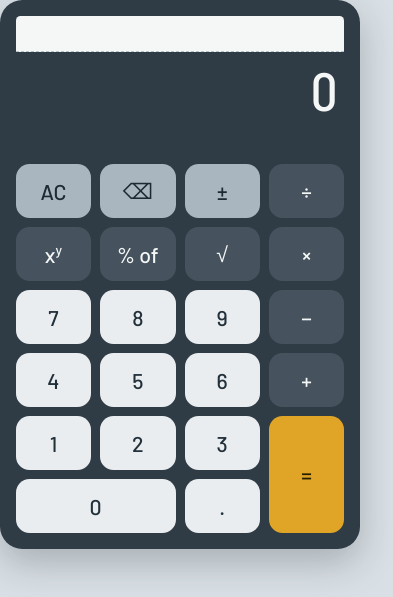
Test: Calculator › with the mouse › calculates 12 + 3 = 15 and prints it on the tape
Click the button "1" at (54, 443), box [16, 416, 91, 470]
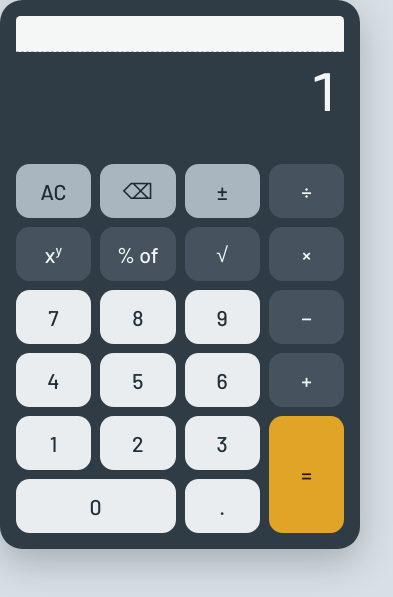
Click the button "2" at (138, 443), box [100, 416, 176, 470]
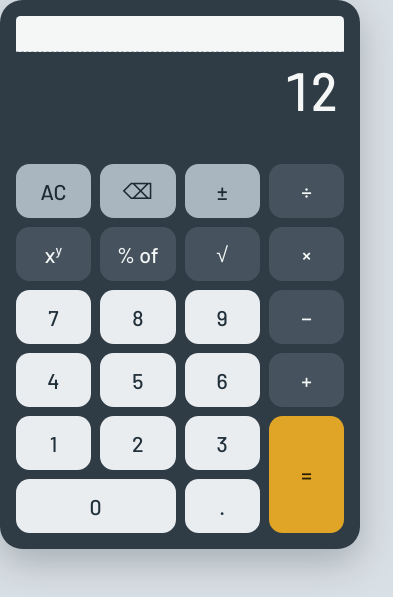
Click the button named "Add" at (307, 380), box [269, 353, 344, 407]
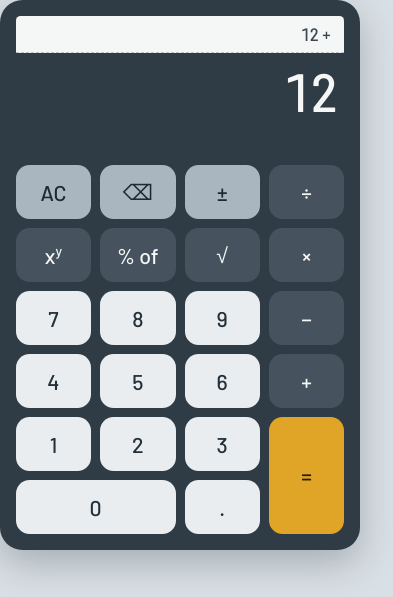
Result: the text with test id "tape" reads "12 +" at [301, 22, 331, 44]
Click the button "3" at (222, 444), box [184, 417, 260, 471]
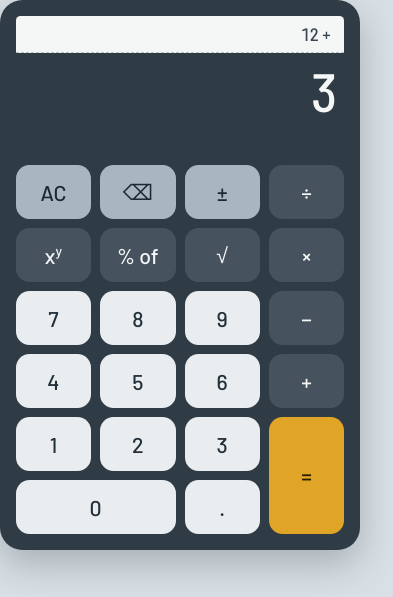
Click the button named "Equals" at (307, 476), box [269, 417, 344, 534]
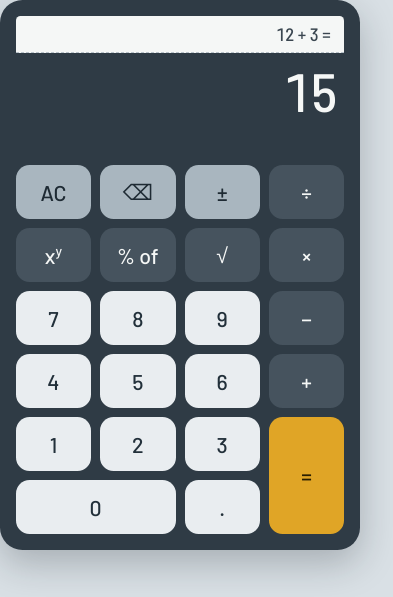
Result: the text "15" is shown at [284, 58, 338, 123]
Result: the text with test id "tape" reads "12 + 3 =" at [276, 22, 331, 44]
